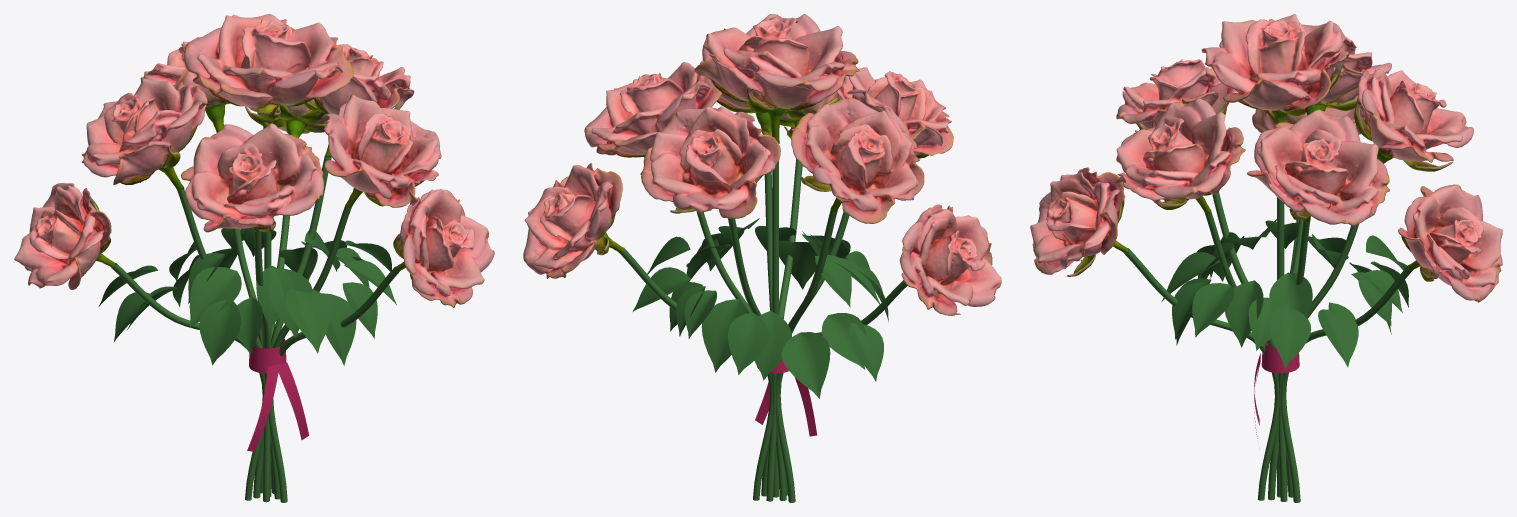
File: rosas.glb
3 renders of one model, left to right at view 1: azimuth 30°, elevation 25°; view 2: azimuth 150°, elevation 25°; view 3: azimuth 270°, elevation 25°, orthographic.
Parts seen in each view (by area): view 1: Rose0, Rose4, Rose3, Rose5, Stems, Rose8, Rose7, Rose1, Ribbon, Leaf13, Leaf18, Leaf14 (+11 smaller); view 2: Rose0, Rose2, Rose3, Stems, Rose7, Rose6, Rose1, Rose4, Leaf9, Leaf7, Leaf6, Leaf8 (+11 smaller); view 3: Rose1, Rose0, Rose5, Rose6, Stems, Rose2, Rose8, Rose4, Rose3, Leaf0, Leaf21, Leaf22 (+8 smaller).
Part boxes in pixels (x1,y1,x2,y2): Rose0: (184, 14, 353, 128); Rose4: (181, 123, 323, 232); Rose3: (81, 78, 207, 190); Rose5: (323, 94, 441, 208); Stems: (111, 156, 399, 502); Rose8: (393, 189, 494, 307); Rose7: (14, 183, 116, 289); Rose1: (304, 44, 414, 157); Ribbon: (247, 333, 308, 451); Leaf13: (189, 267, 241, 327); Leaf18: (285, 288, 331, 353); Leaf14: (199, 300, 241, 365); Rose0: (694, 14, 859, 143); Rose2: (640, 106, 780, 218); Rose3: (791, 97, 924, 223); Stems: (619, 159, 907, 502); Rose7: (899, 204, 1001, 315); Rose6: (523, 163, 624, 278); Rose1: (584, 62, 721, 157); Rose4: (835, 67, 953, 158); Leaf9: (781, 332, 830, 398); Leaf7: (727, 312, 769, 374); Leaf6: (701, 299, 746, 372); Leaf8: (754, 310, 791, 380); Rose1: (1247, 109, 1389, 225); Rose0: (1201, 14, 1349, 124); Rose5: (1114, 98, 1245, 214); Rose6: (1398, 184, 1502, 302); Stems: (1124, 192, 1411, 502); Rose2: (1354, 69, 1473, 171); Rose8: (1030, 167, 1128, 276); Rose4: (1116, 59, 1238, 129); Rose3: (1306, 37, 1391, 115); Leaf0: (1269, 306, 1311, 368); Leaf21: (1192, 283, 1234, 337); Leaf22: (1225, 280, 1263, 347).
Bounding box in the file's own units: 2.15 × 2.47 × 2.24.
Materials: 4 (1 with a texture image).
